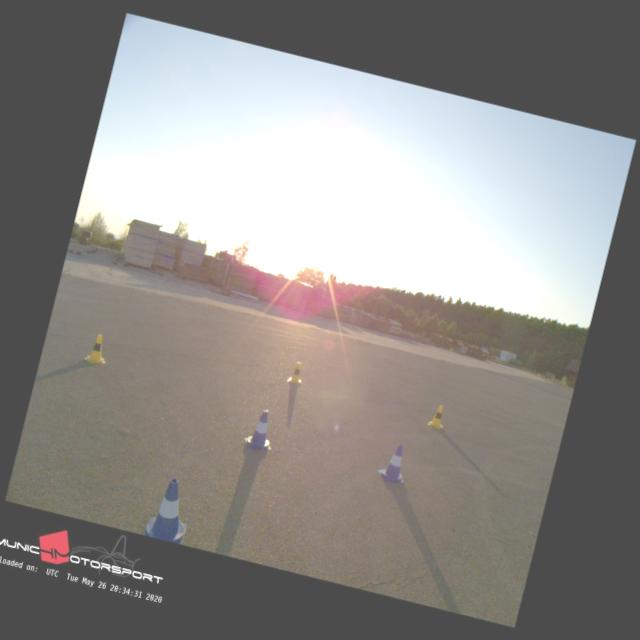blue_cone: (142, 473, 196, 544), (242, 406, 280, 452), (375, 439, 412, 484)
yellow_cone: (82, 332, 111, 366), (427, 402, 447, 428), (286, 360, 305, 384)
